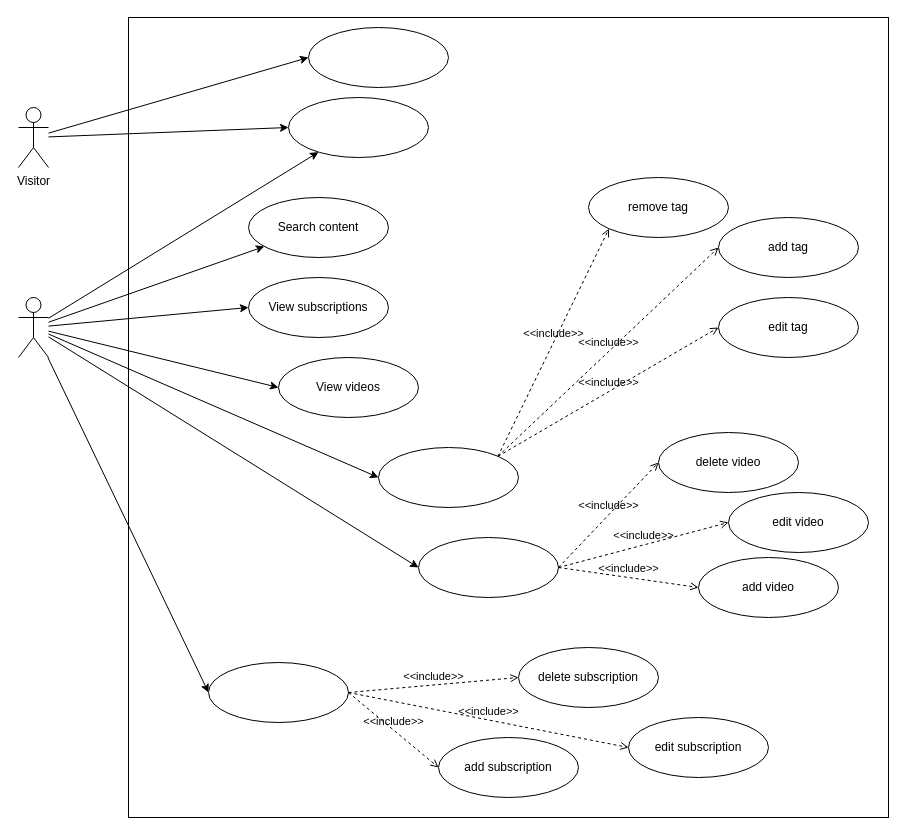
The diagram is 906 pixels wide and 835 high, and some of its shapes have lost their labels. The shapes that lost their labels are listed below. From the top down, each one's centre as x and y in pixels, then its label:
At point (378, 57): "Sign Up".
At point (358, 127): "Sign In".
At point (33, 327): "user".
At point (448, 477): "manage tags".
At point (488, 567): "manage video".
At point (278, 692): "manage subscription".
